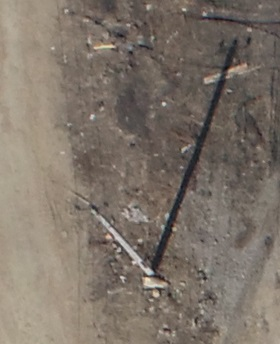opora: (72, 188, 182, 276)
